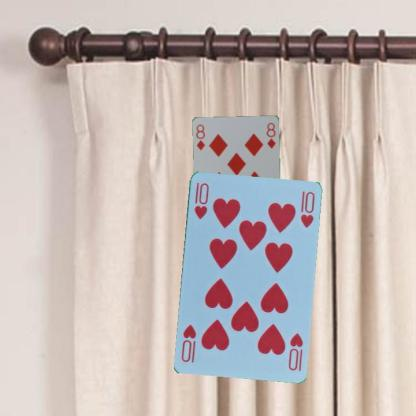10h: (191, 179, 210, 220), (286, 330, 304, 371)
8d: (194, 122, 206, 151)
